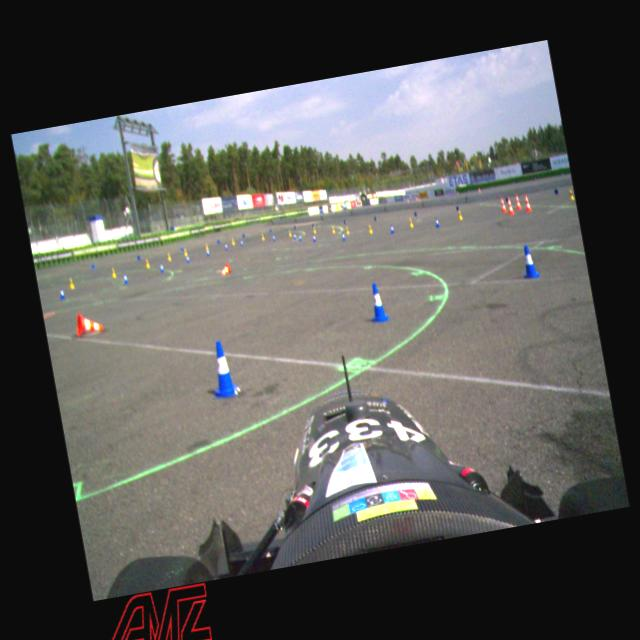blue_cone: (203, 338, 240, 400), (364, 280, 390, 324), (518, 242, 540, 280), (58, 286, 66, 300), (122, 272, 129, 284), (434, 216, 441, 228), (184, 252, 190, 264), (158, 261, 164, 272), (388, 223, 394, 234), (340, 230, 346, 240), (297, 232, 302, 242), (205, 248, 210, 256), (312, 233, 316, 242), (292, 231, 296, 240), (272, 233, 276, 242), (224, 242, 228, 250), (240, 238, 243, 247)
large_orange_cone: (521, 192, 532, 212), (504, 196, 514, 216), (513, 192, 522, 210), (498, 195, 507, 213)
orange_cone: (72, 308, 104, 338), (219, 262, 231, 274)
yellow_cone: (567, 188, 575, 200), (67, 276, 74, 289), (110, 266, 116, 278), (408, 216, 414, 228), (457, 209, 463, 220), (144, 258, 150, 268), (367, 224, 373, 234), (166, 252, 172, 262), (182, 247, 188, 257), (330, 225, 336, 234), (344, 225, 349, 234), (260, 232, 265, 240), (288, 229, 292, 237), (312, 226, 316, 234), (204, 242, 208, 250), (230, 238, 234, 245)
